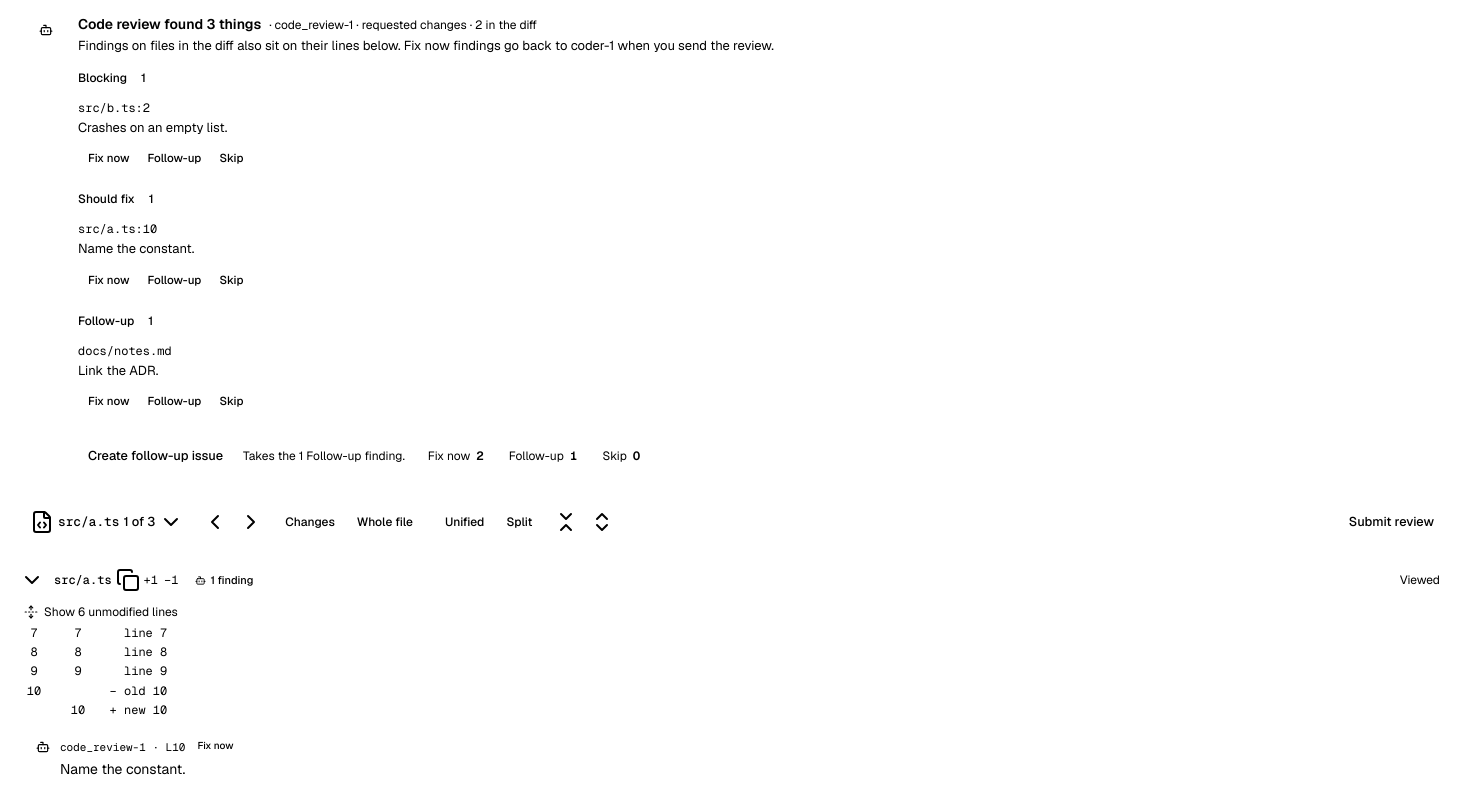
Test: each finding gets one choice: Blocking and Should fix start on Fix now, Follow-up on Follow-up, and the footer counts them
The width and height of the screenshot is (1464, 800).
Check: the text "Takes the 1 Follow-up finding." is shown, box [243,448,405,464]
Check: the text "Fix now findings go back to coder-1 when you send the review." is shown, box [78,37,774,54]
Click the radio button labelled "Skip" below "Should fix": click(231, 280) [211,268,252,290]
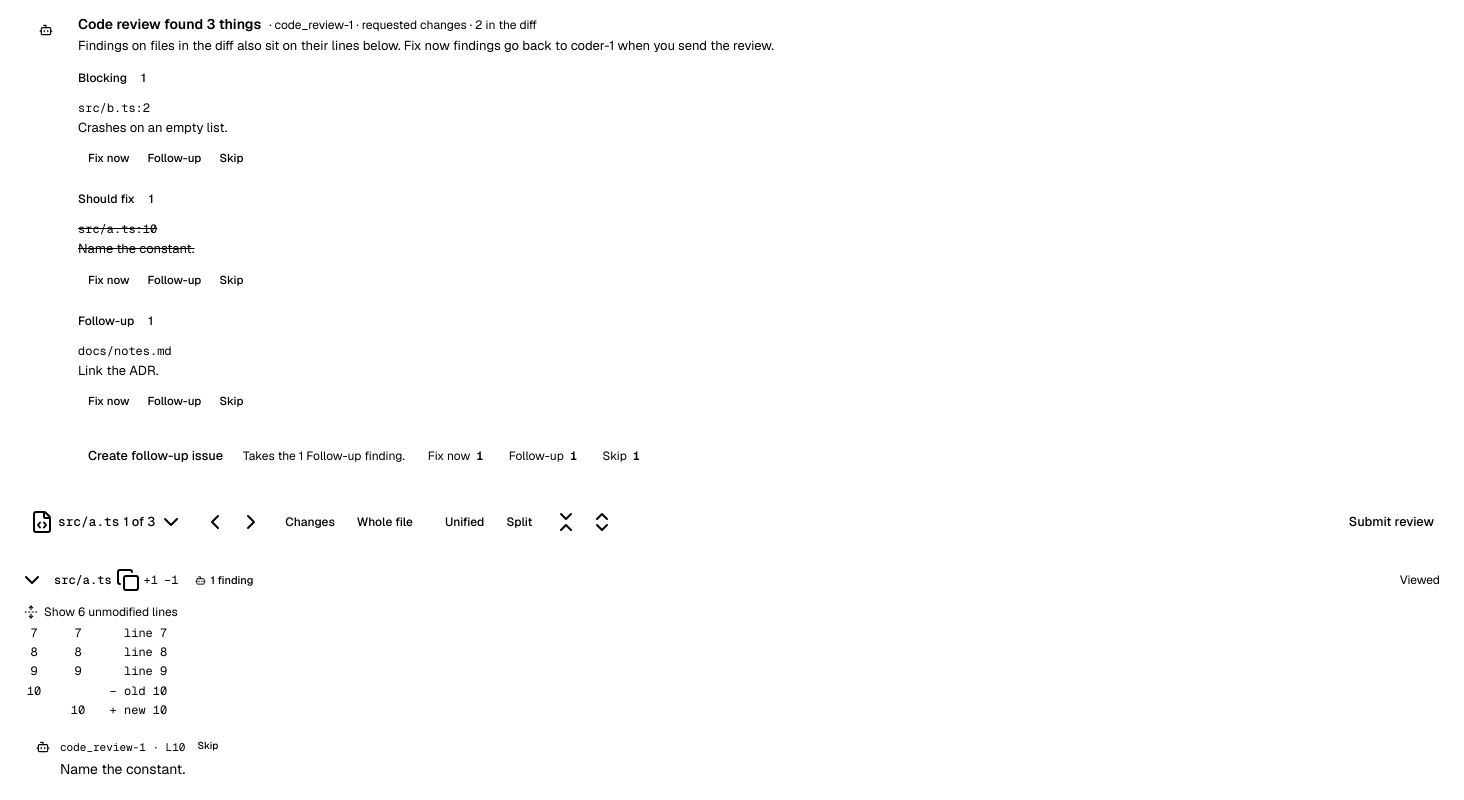
Click the radio button labelled "Follow-up" below "Blocking": click(174, 158) [139,147,209,169]
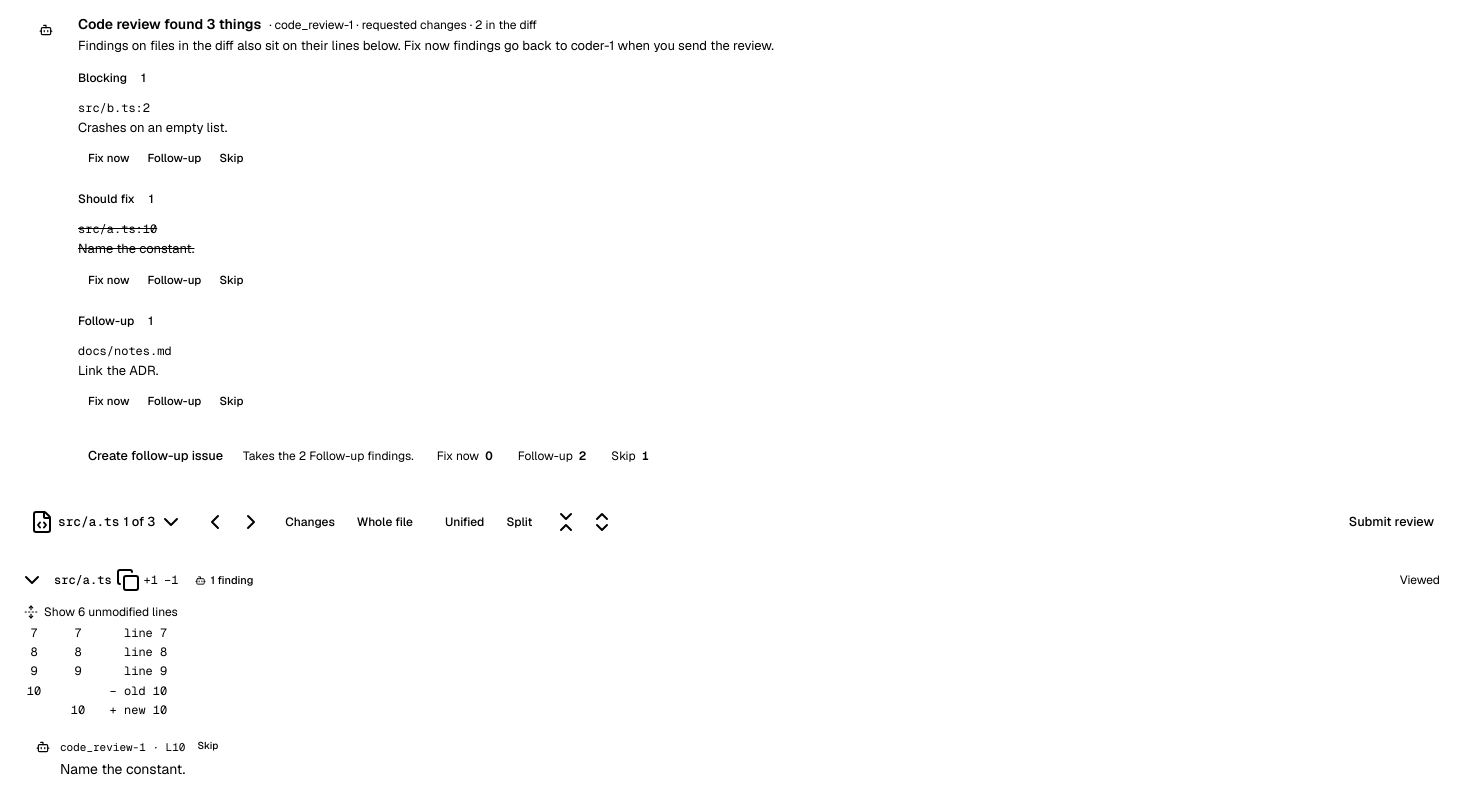
Check: the radio button labelled "Skip" below "Blocking" is shown, box [211,147,252,169]
Check: the text "Skip" is shown, box [197,739,218,752]
Check: the text "Takes the 2 Follow-up findings." is shown, box [243,448,414,464]
